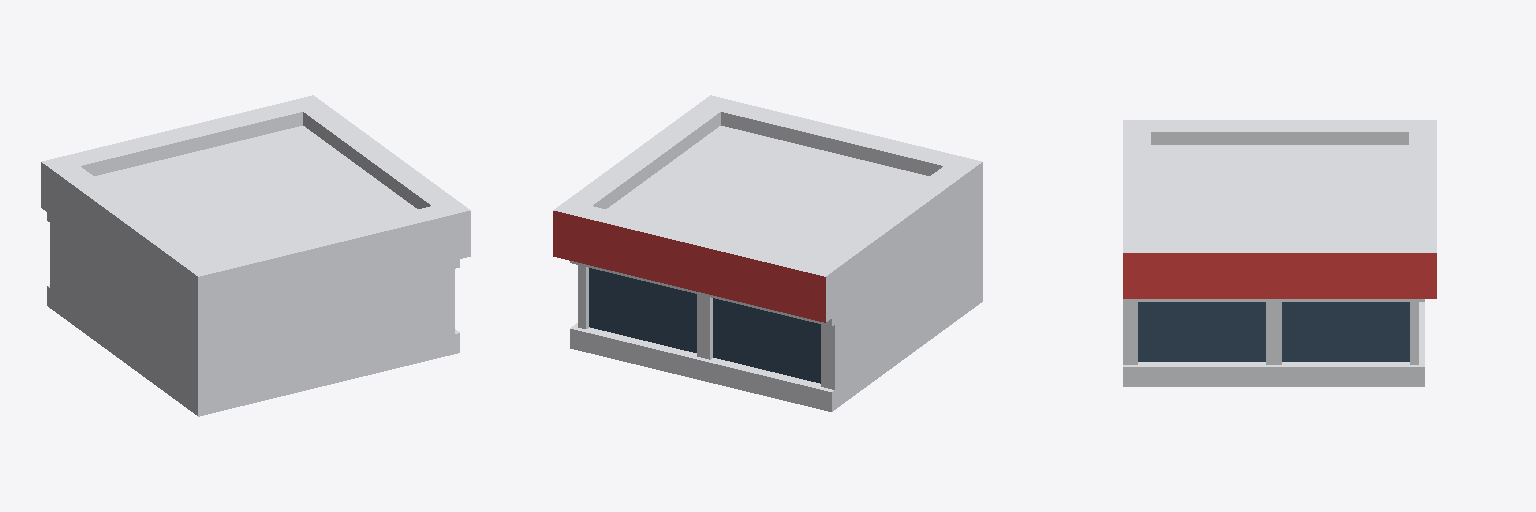
The model's file is pitsOfficeCorner.obj.
The picture shows the model from 3 angles: view 1: azimuth 30°, elevation 25°; view 2: azimuth 150°, elevation 25°; view 3: azimuth 270°, elevation 25°; orthographic projection.
Visible parts, largest first — view 1: pitsOfficeCorner; view 2: pitsOfficeCorner; view 3: pitsOfficeCorner.
Boxes of the visible parts, x1=… form: pitsOfficeCorner: x1=41, y1=95, x2=470, y2=416; pitsOfficeCorner: x1=553, y1=95, x2=982, y2=411; pitsOfficeCorner: x1=1123, y1=120, x2=1436, y2=386.
Size of the model in its own units: 10.4 by 5.1 by 10.4.